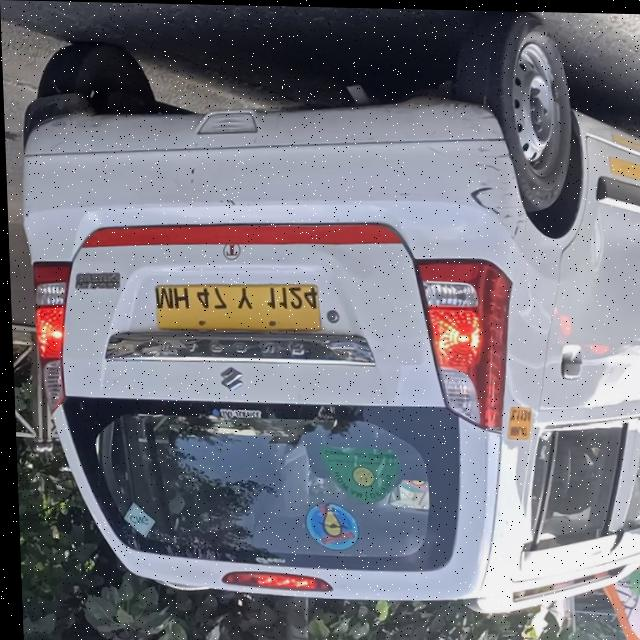plate: (151, 280, 319, 334)
